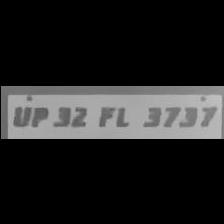2: (68, 101, 88, 128)
3: (138, 102, 164, 128), (52, 102, 72, 128), (176, 102, 196, 127)
7: (195, 102, 217, 127), (160, 102, 180, 127)
F: (90, 101, 114, 128)
L: (112, 100, 130, 128)
P: (26, 102, 48, 127)
U: (6, 102, 30, 127)
